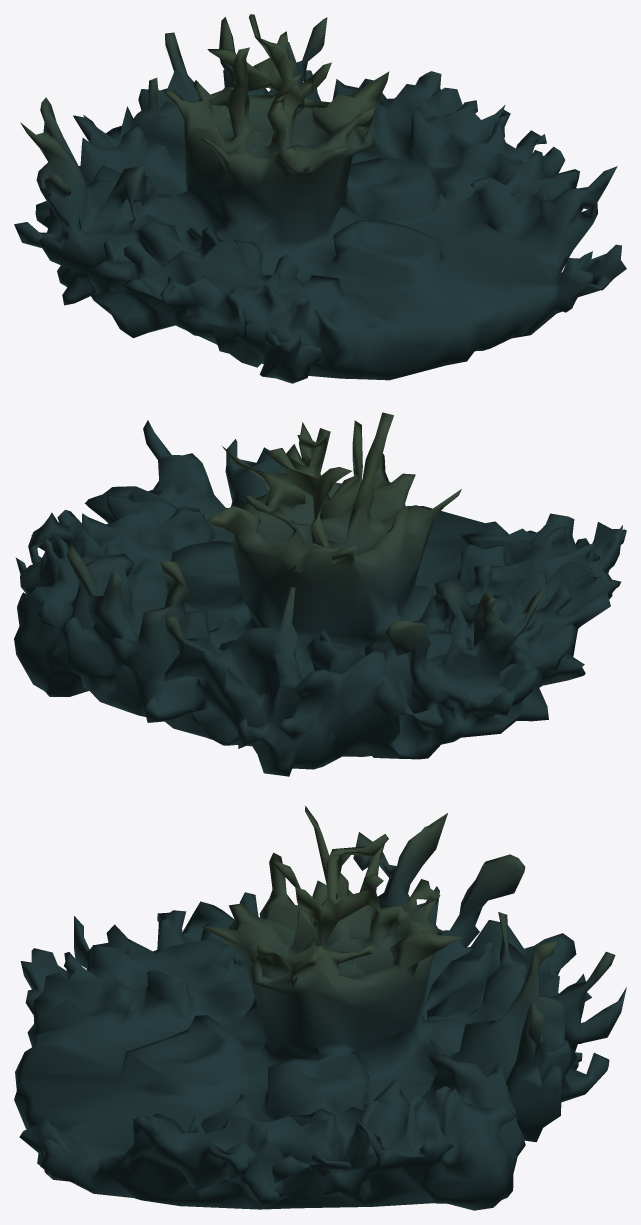
File: village-hearth.glb
The picture shows the model from 3 angles, top to bottom: view 1: azimuth 30°, elevation 25°; view 2: azimuth 150°, elevation 25°; view 3: azimuth 270°, elevation 25°; orthographic projection. The views are drawn at different scales.
Visible parts, largest first — view 1: village-hearth; view 2: village-hearth; view 3: village-hearth.
Part boxes in pixels (left/top/right/bottom): village-hearth: left=14, top=14, right=626, bottom=383; village-hearth: left=14, top=412, right=626, bottom=776; village-hearth: left=14, top=805, right=626, bottom=1210.
Bounding box in the file's own units: 0.0134 × 0.00668 × 0.0134.
